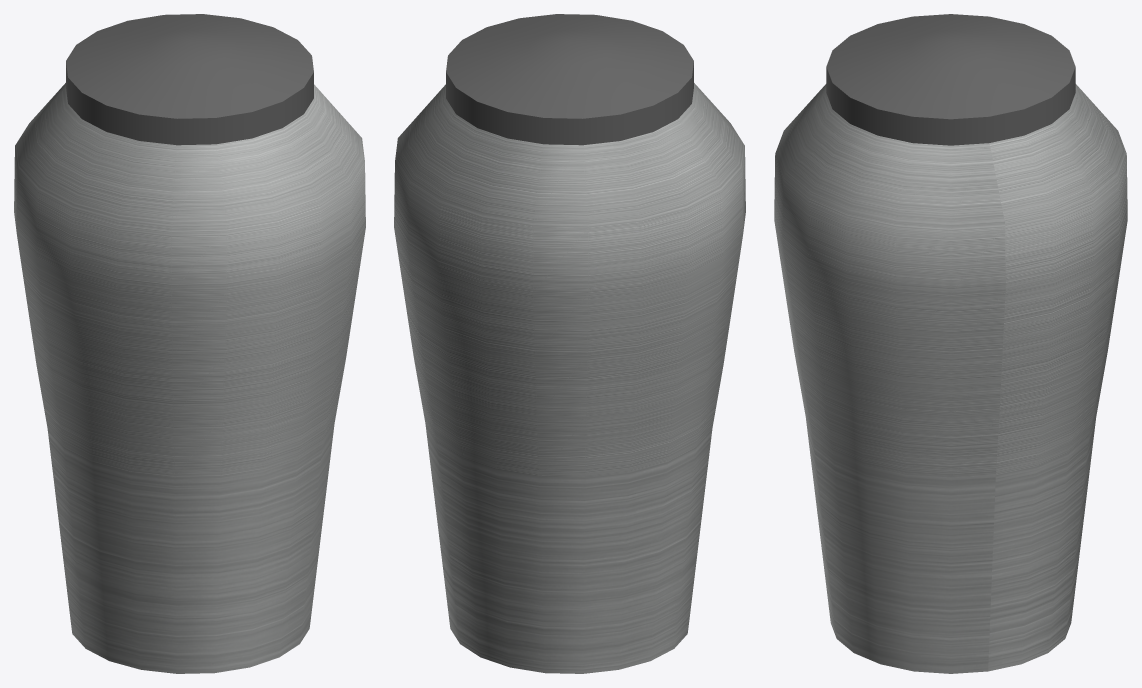
The model's file is urn_2 (3).fbx.
The picture shows the model from 3 angles, left to right: view 1: azimuth 30°, elevation 25°; view 2: azimuth 150°, elevation 25°; view 3: azimuth 270°, elevation 25°; orthographic projection.
Visible parts, largest first — view 1: pCylinder1, pCylinder2; view 2: pCylinder1, pCylinder2; view 3: pCylinder1, pCylinder2.
Part boxes in pixels (x1=…): pCylinder1: x1=14, y1=83, x2=365, y2=673; pCylinder2: x1=66, y1=14, x2=313, y2=145; pCylinder1: x1=394, y1=83, x2=745, y2=673; pCylinder2: x1=446, y1=14, x2=693, y2=145; pCylinder1: x1=774, y1=84, x2=1127, y2=673; pCylinder2: x1=826, y1=14, x2=1075, y2=145.
Size of the model in its own units: 4.47 by 8.1 by 4.47.
2 materials, 1 textured.
